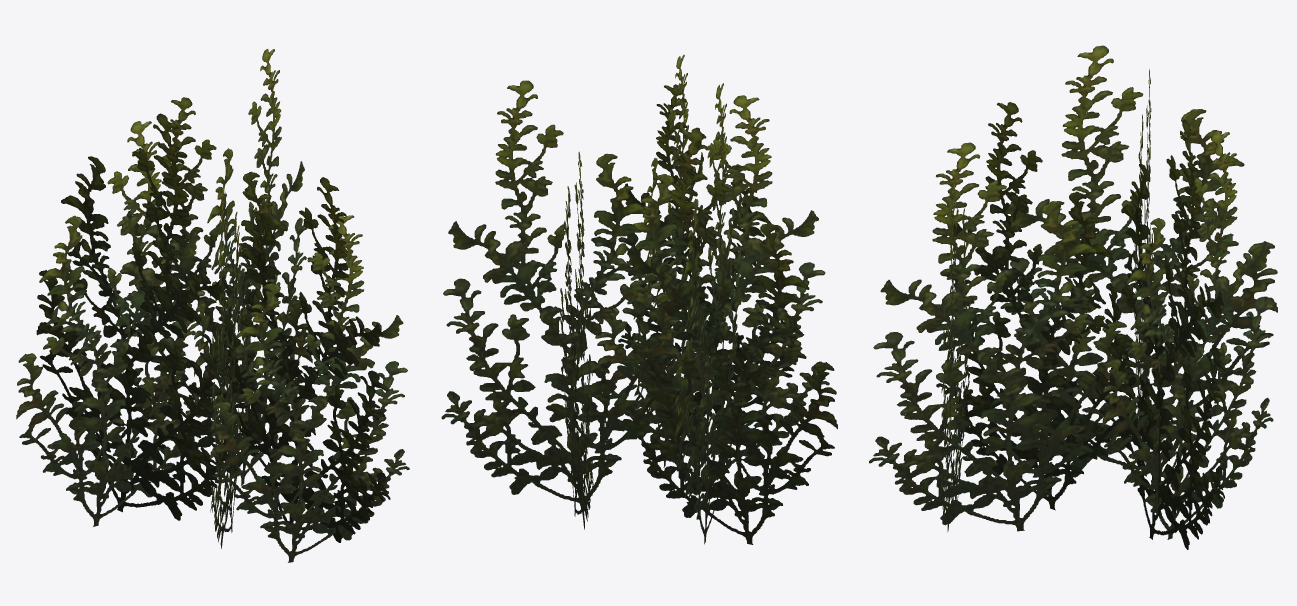
The model's file is wm_灌木大灌木10.fbx.
The picture shows the model from 3 angles, left to right: view 1: azimuth 30°, elevation 25°; view 2: azimuth 150°, elevation 25°; view 3: azimuth 270°, elevation 25°; orthographic projection. The views are drawn at different scales.
Parts seen in each view (by area): view 1: wm_灌木大灌木10; view 2: wm_灌木大灌木10; view 3: wm_灌木大灌木10.
Part boxes in pixels (x1,y1,x2,y2): wm_灌木大灌木10: [16, 49, 409, 562]; wm_灌木大灌木10: [441, 54, 837, 544]; wm_灌木大灌木10: [869, 45, 1277, 549].
Size of the model in its own units: 107 by 127 by 107.
